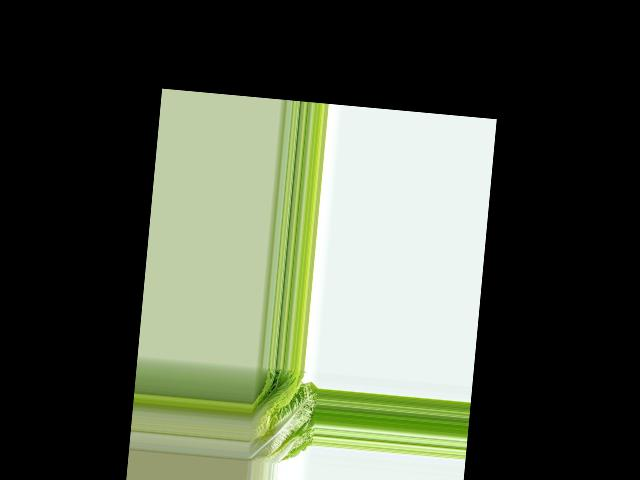lettuce: (247, 365, 318, 466)
